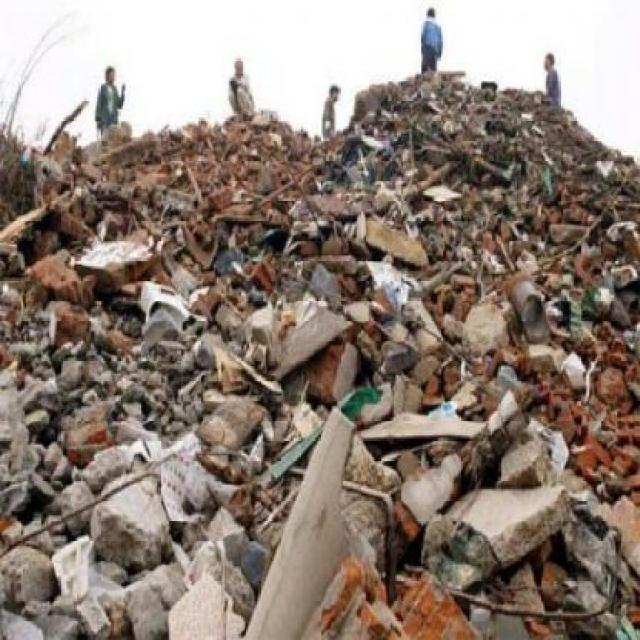garbage: (0, 76, 640, 640)
